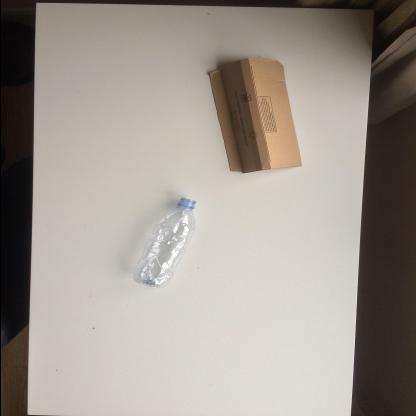karton: (209, 59, 303, 175)
plastik: (133, 198, 197, 288)
